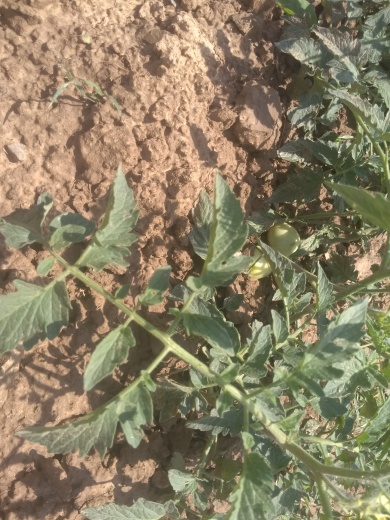tomato: (271, 210, 307, 270)
tomato plant: (24, 199, 390, 474), (290, 8, 390, 178)
